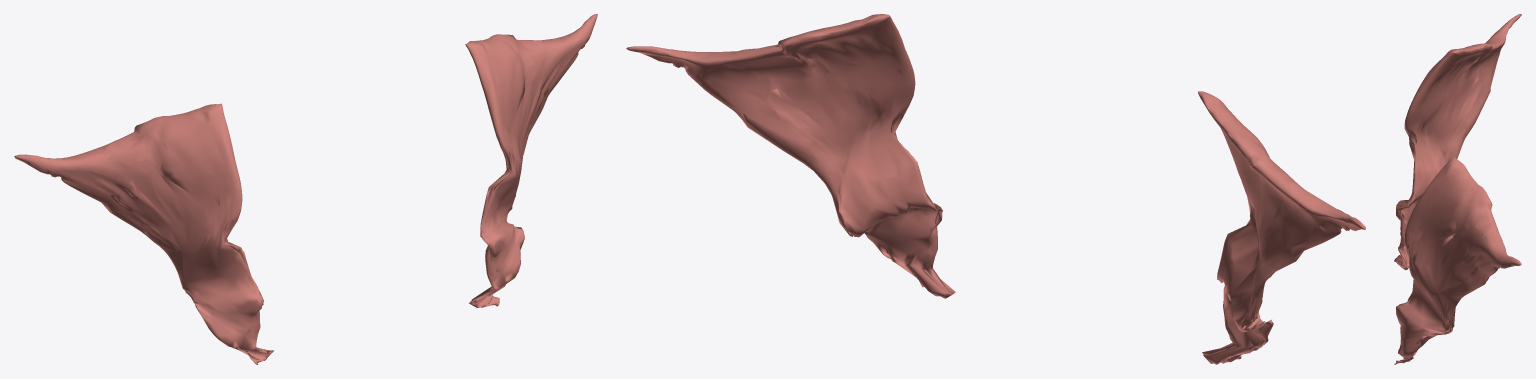
File: levator_labii_superioris_lod1.glb
3 views of the same model, side by side, from view 1: azimuth 30°, elevation 25°; view 2: azimuth 150°, elevation 25°; view 3: azimuth 270°, elevation 25° (orthographic). The views are drawn at different scales.
Visible parts, largest first — view 1: levator_labii_superioris_R_lod1, levator_labii_superioris_L_lod1; view 2: levator_labii_superioris_L_lod1, levator_labii_superioris_R_lod1; view 3: levator_labii_superioris_L_lod1, levator_labii_superioris_R_lod1.
Boxes of the visible parts, left/top/right/bottom form: levator_labii_superioris_R_lod1: left=14, top=103, right=273, bottom=364; levator_labii_superioris_L_lod1: left=465, top=14, right=597, bottom=307; levator_labii_superioris_L_lod1: left=626, top=14, right=955, bottom=298; levator_labii_superioris_R_lod1: left=1198, top=91, right=1365, bottom=364; levator_labii_superioris_L_lod1: left=1394, top=157, right=1521, bottom=364; levator_labii_superioris_R_lod1: left=1394, top=14, right=1521, bottom=270.
Bounding box in the file's own units: 0.0774 × 0.0304 × 0.0167.
